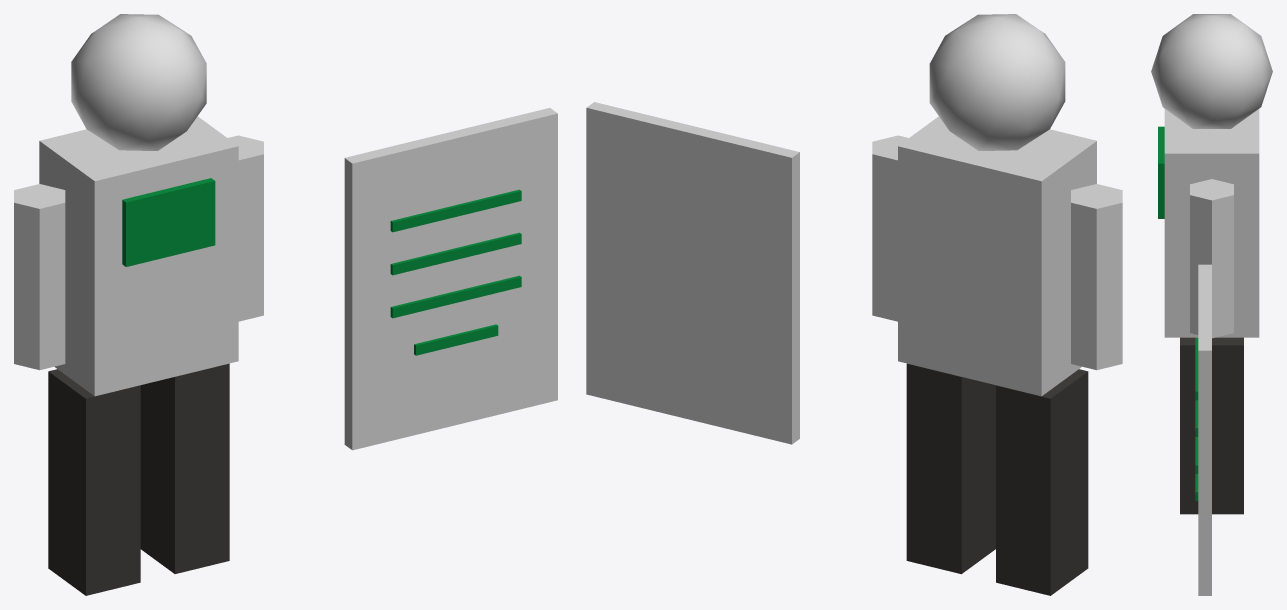
Rendered from P5_training_and_awareness.glb.
3 views of the same model, side by side, from view 1: azimuth 30°, elevation 25°; view 2: azimuth 150°, elevation 25°; view 3: azimuth 270°, elevation 25° (orthographic). The views are drawn at different scales.
Parts seen in each view (by area): view 1: instance_white, instance_ink, instance_green; view 2: instance_white, instance_ink; view 3: instance_white, instance_ink, instance_green.
Part boxes in pixels (box(x1,y1,x2,y2)): instance_white: box(14, 14, 557, 450); instance_ink: box(48, 363, 229, 595); instance_green: box(122, 178, 521, 355); instance_white: box(586, 14, 1122, 444); instance_ink: box(906, 363, 1088, 595); instance_white: box(1151, 14, 1272, 595); instance_ink: box(1180, 337, 1243, 514); instance_green: box(1158, 126, 1198, 500).
Size of the model in its own units: 1.57 by 1.52 by 0.36.
